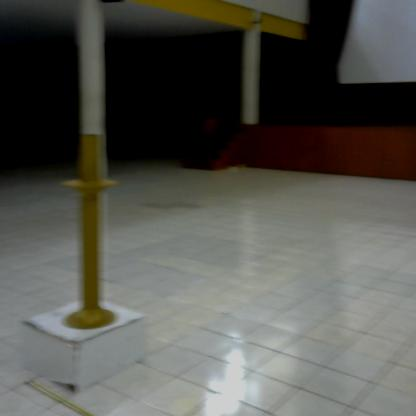pole: (58, 129, 126, 341)
